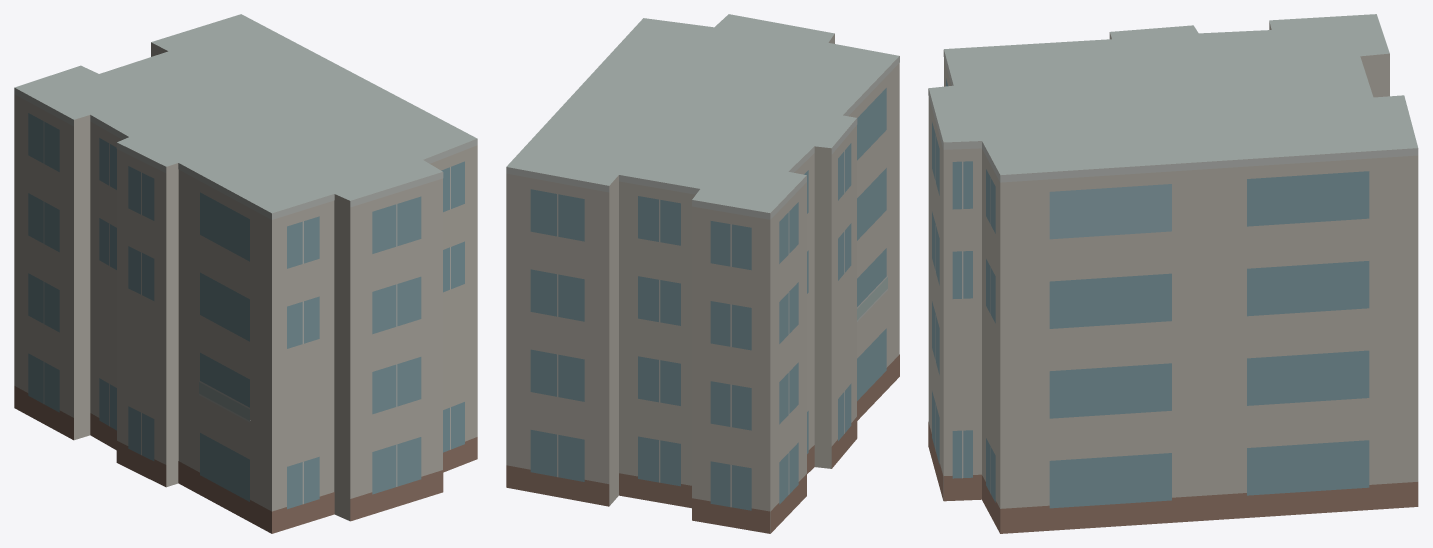
File: survey-upis-32707563.glb
3 views of the same model, side by side, from view 1: azimuth 30°, elevation 25°; view 2: azimuth 150°, elevation 25°; view 3: azimuth 270°, elevation 25° (orthographic). The views are drawn at different scales.
Visible parts, largest first — view 1: survey-upis-32707563.tmp; view 2: survey-upis-32707563.tmp; view 3: survey-upis-32707563.tmp.
Part boxes in pixels (x1,y1,x2,y2): survey-upis-32707563.tmp: (14, 14, 477, 533); survey-upis-32707563.tmp: (506, 14, 899, 533); survey-upis-32707563.tmp: (928, 14, 1418, 533).
Bounding box in the file's own units: 11.41 × 11.83 × 14.65.
